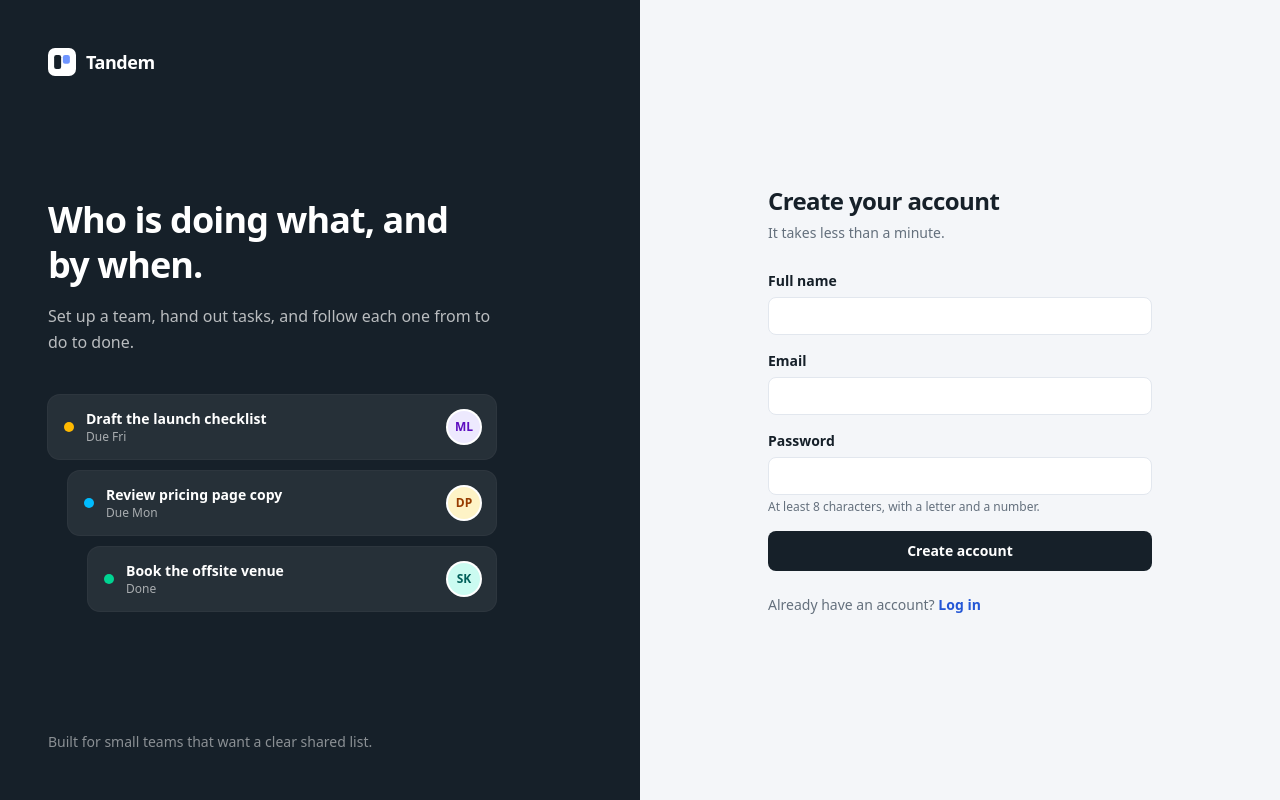
Test case: login and register screens › enforces the password rules on the register form
Type "Sam Rivera" into the field labelled "Full name" at (960, 316), box [768, 297, 1152, 335]
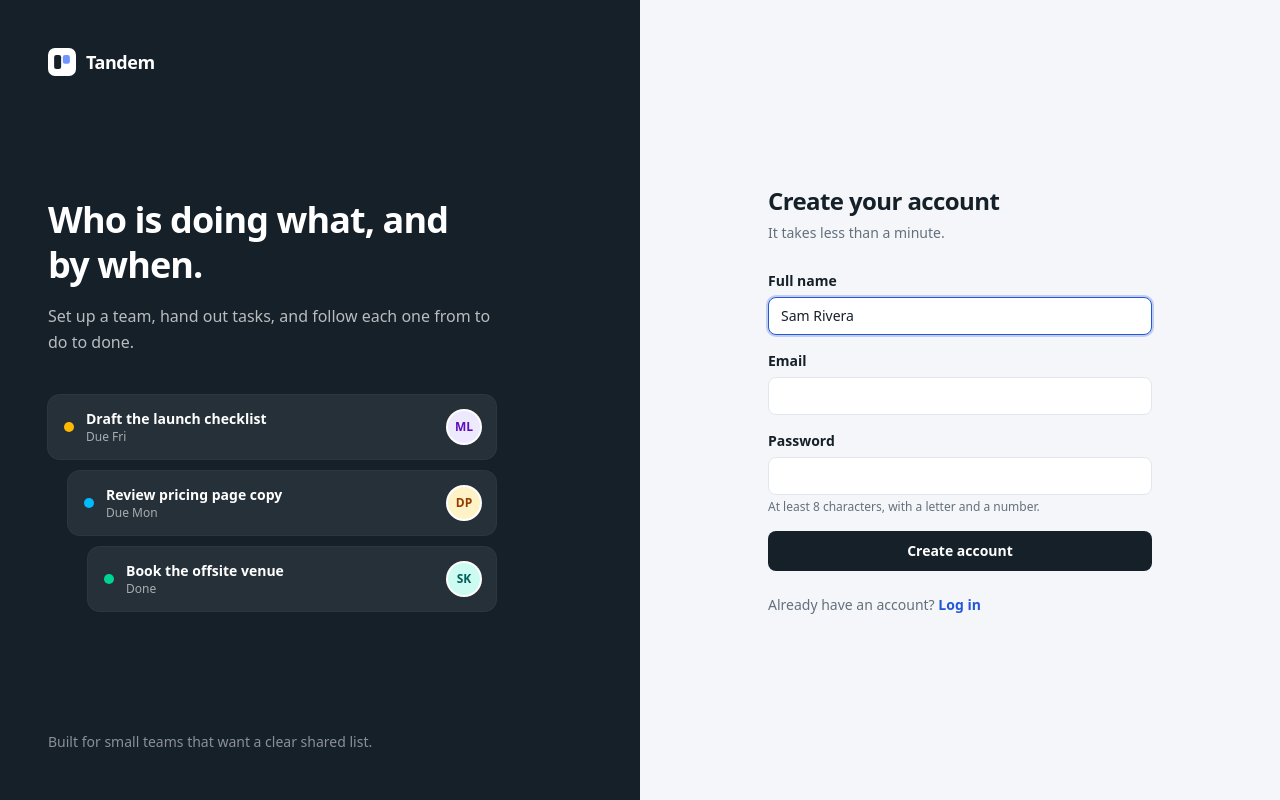
Type "sam@example.com" into the field labelled "Email" at (960, 396), box [768, 377, 1152, 415]
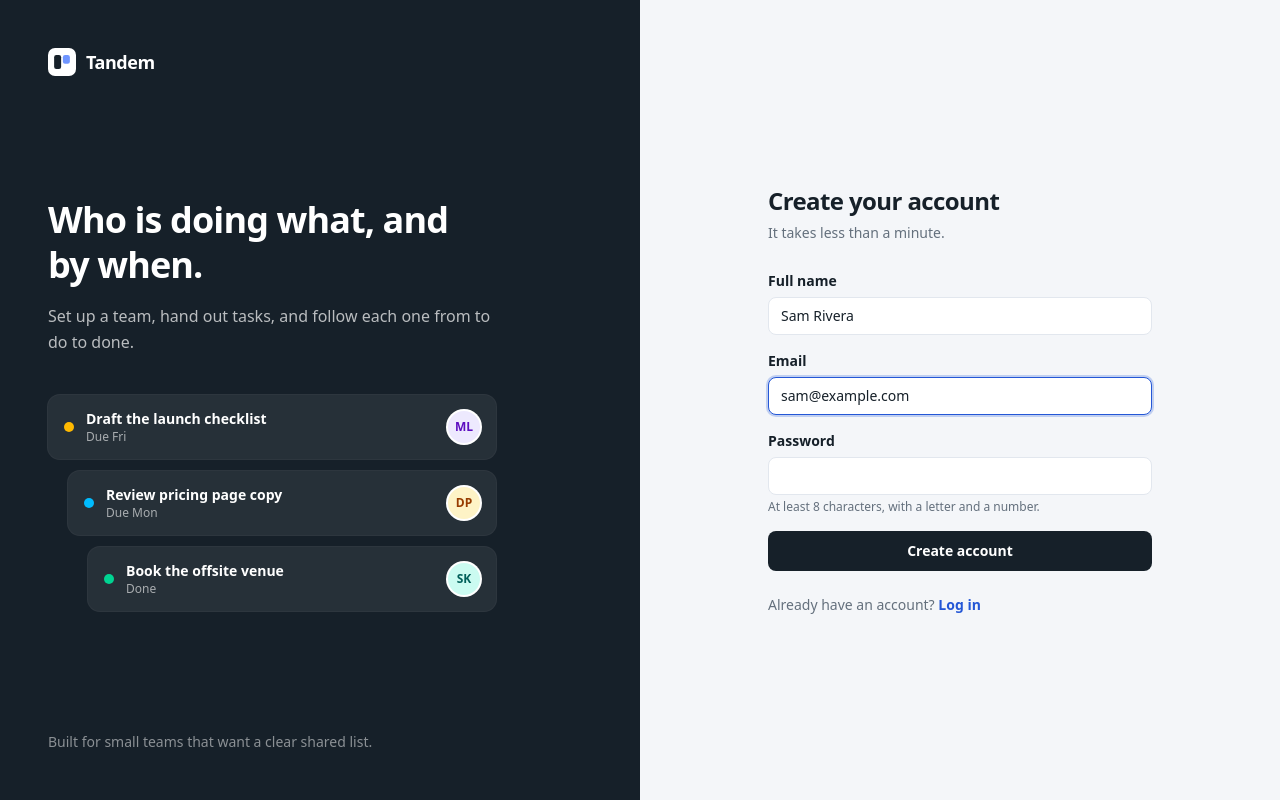
Type "onlyletters" into the password field labelled "Password" at (960, 476), box [768, 457, 1152, 495]
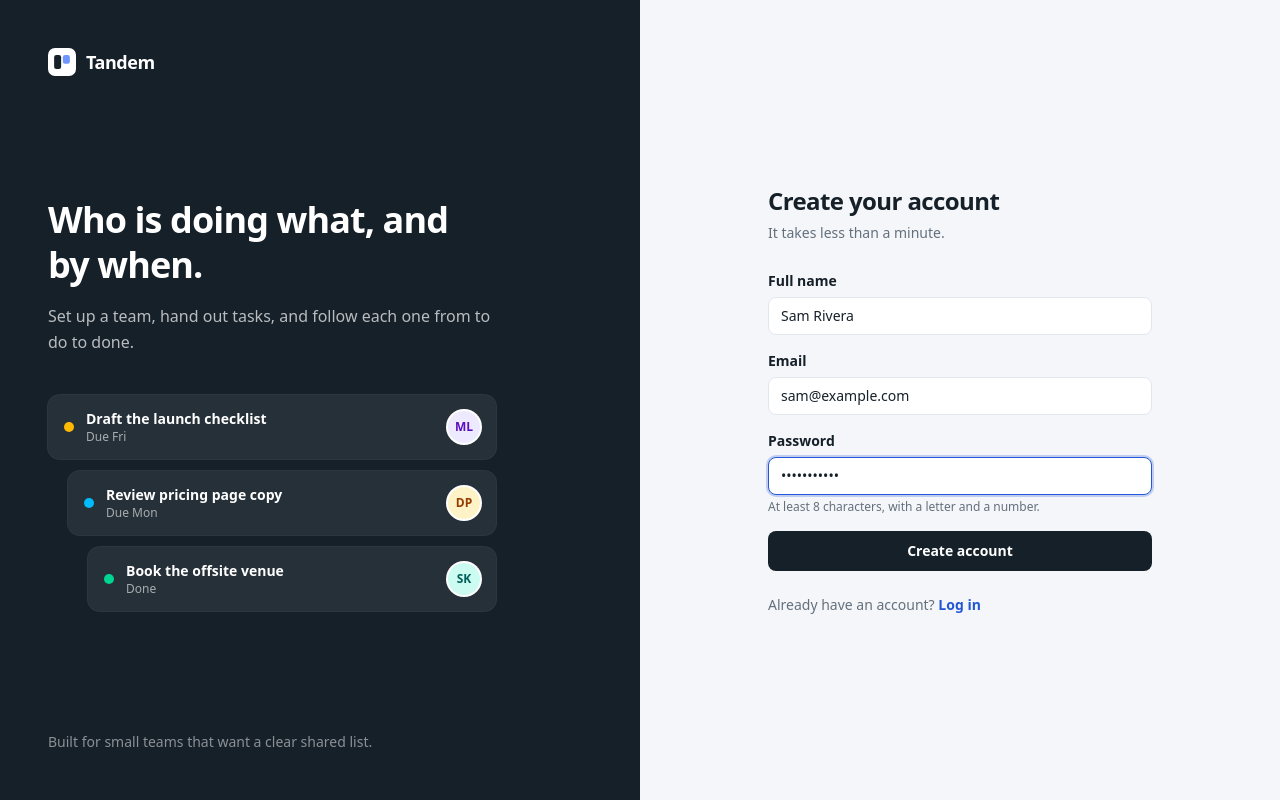
Click the button "Create account" at (960, 551), box [768, 531, 1152, 571]
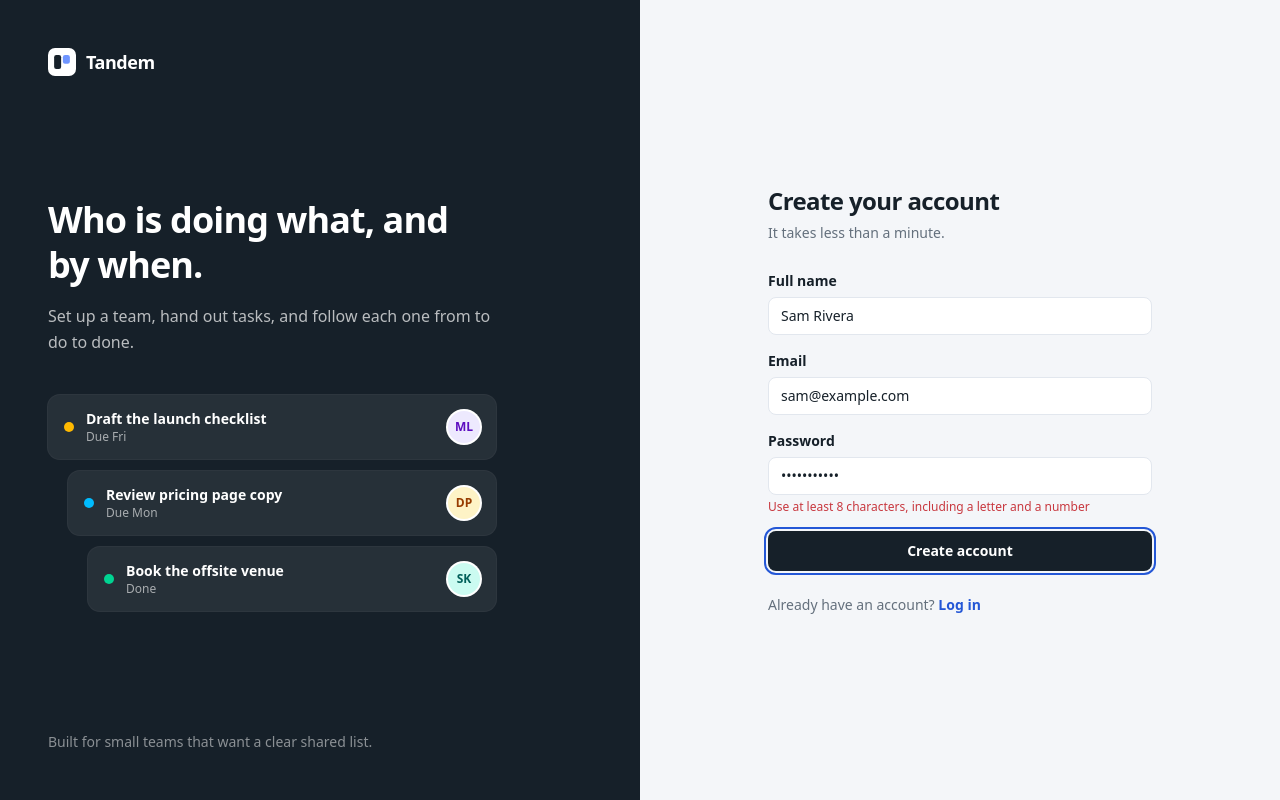
Expected: the text "Use at least 8 characters, including a letter and a number" is shown, [768, 498, 1090, 515]
